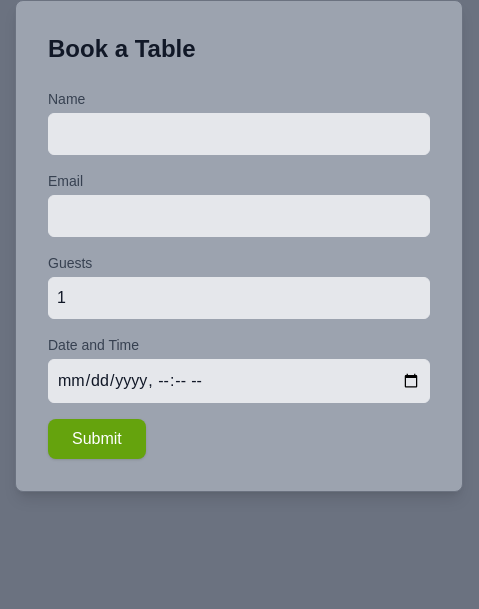
Scenario: BookingForm › should display validation error when number of guests exceeds maximum limit
Replace the text in the number field labelled "Guests" with "9": (239, 298) x1=48 y1=277 x2=430 y2=319
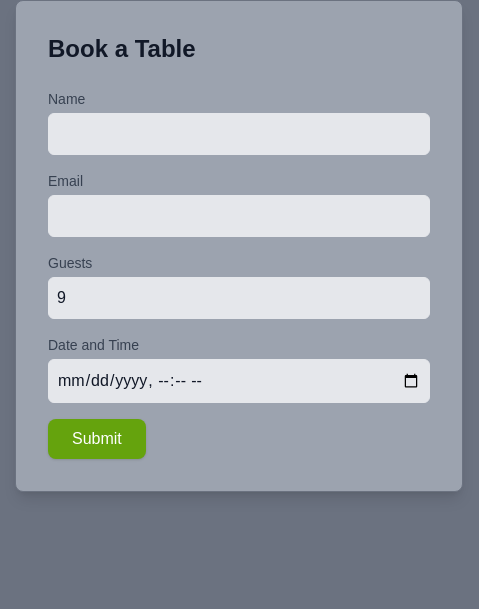
Click the button "Submit": (97, 439) x1=48 y1=419 x2=146 y2=459
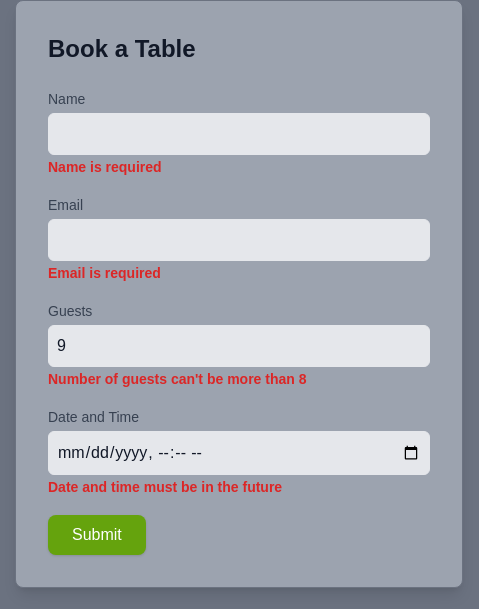
Check: the text "Number of guests can't be more than 8" is shown, box x1=48 y1=371 x2=306 y2=387
